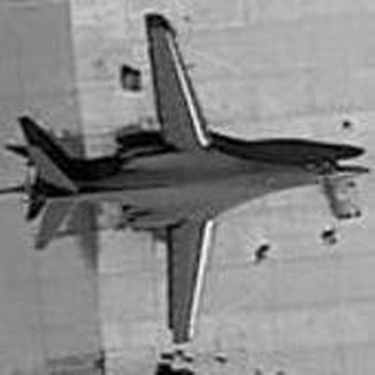airplane: (6, 15, 372, 366)
